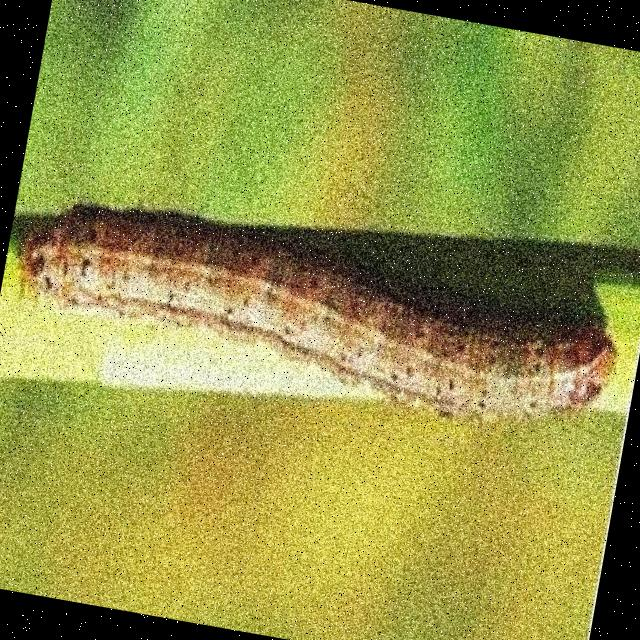worm: (3, 184, 630, 449)
